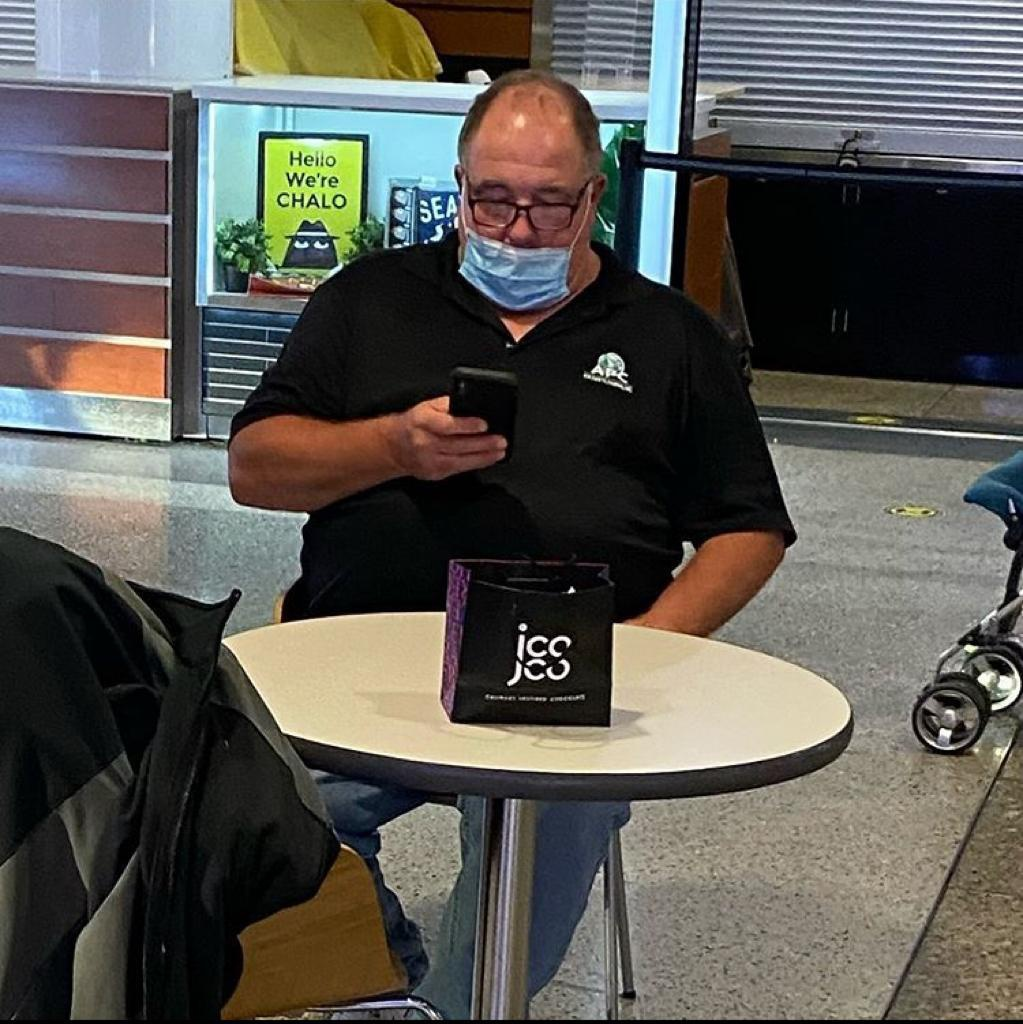nose: (504, 228, 534, 246)
